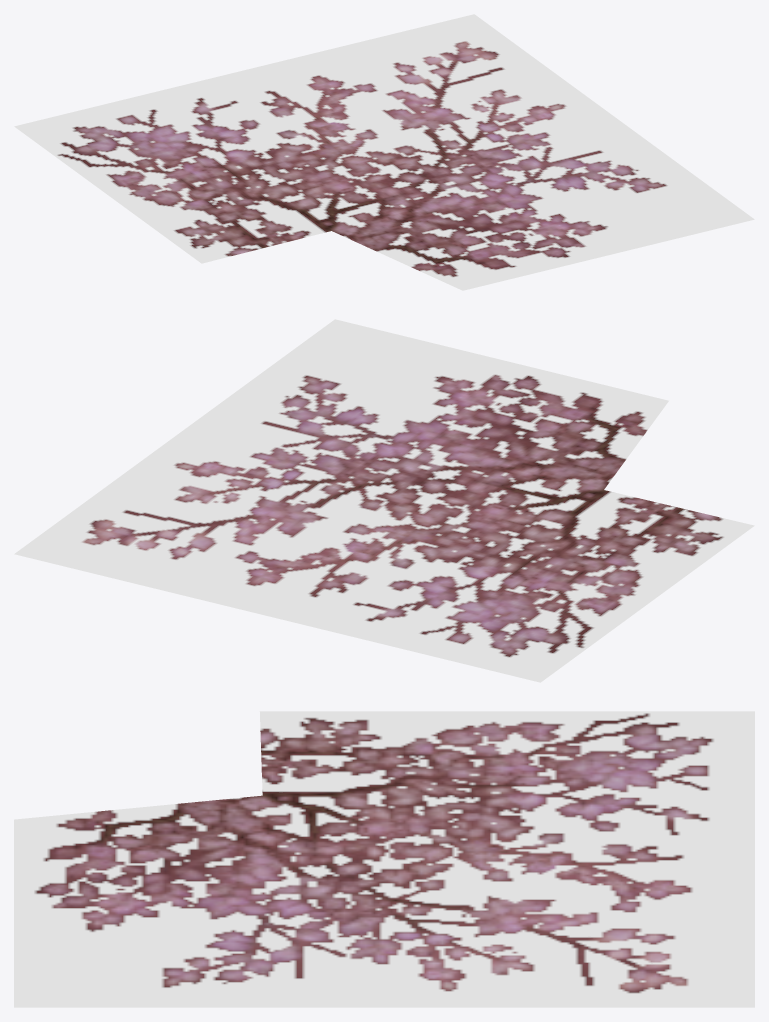
File: Yland1_yz_16 Yland1.FBX
3 renders of one model, top to bottom at view 1: azimuth 30°, elevation 25°; view 2: azimuth 150°, elevation 25°; view 3: azimuth 270°, elevation 25°, orthographic. The views are drawn at different scales.
Visible parts, largest first — view 1: Yland1_yz_16 Yland1; view 2: Yland1_yz_16 Yland1; view 3: Yland1_yz_16 Yland1.
Boxes of the visible parts, <box> form: Yland1_yz_16 Yland1: <box>14,14,754,290</box>; Yland1_yz_16 Yland1: <box>14,319,754,682</box>; Yland1_yz_16 Yland1: <box>14,711,754,1007</box>.
Bounding box in the file's own units: 2.16 × 2.03e-06 × 2.28.
